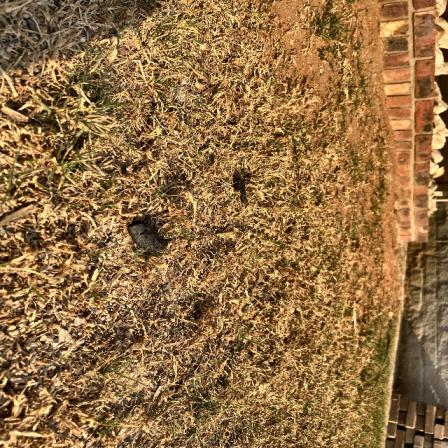dog-poop: (129, 213, 163, 261)
